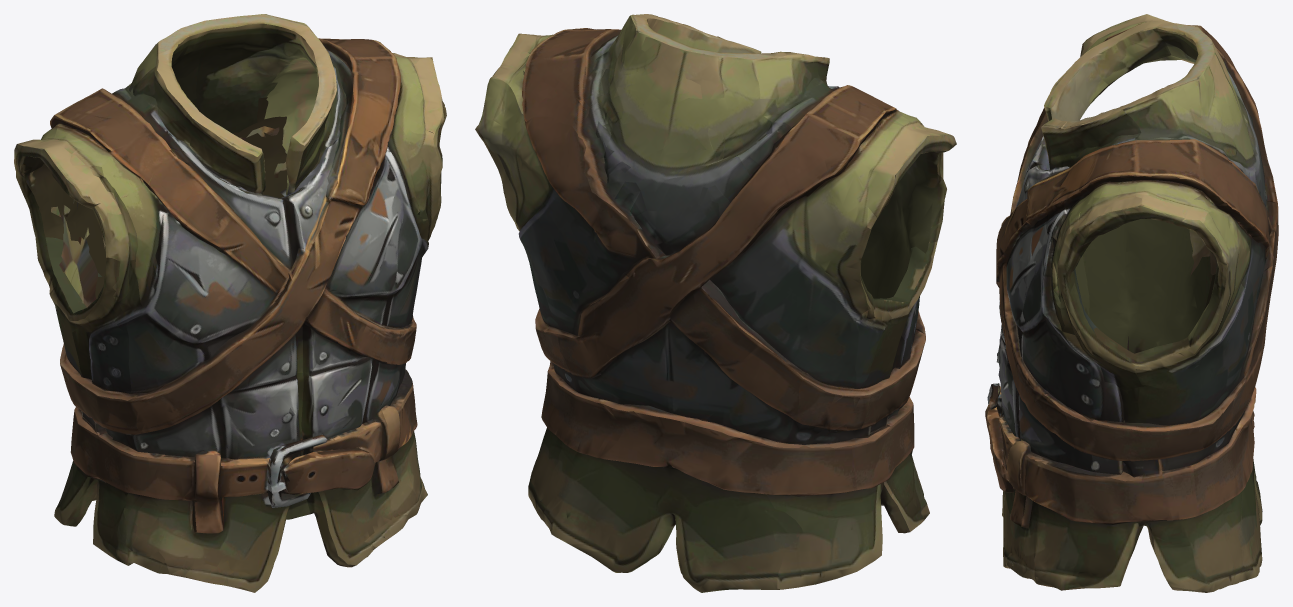
Rendered from item_dark_iron_armor.glb.
3 renders of one model, left to right at view 1: azimuth 30°, elevation 25°; view 2: azimuth 150°, elevation 25°; view 3: azimuth 270°, elevation 25°, orthographic. The views are drawn at different scales.
Parts seen in each view (by area): view 1: item_dark_iron_armor; view 2: item_dark_iron_armor; view 3: item_dark_iron_armor.
Boxes of the visible parts, x1,y1,x2,y2 form: item_dark_iron_armor: (14,14,446,592); item_dark_iron_armor: (475,14,956,592); item_dark_iron_armor: (985,14,1278,592).
Bounding box in the file's own units: 0.4988 × 0.6 × 0.3221.
Materials: 1 (1 with a texture image).
